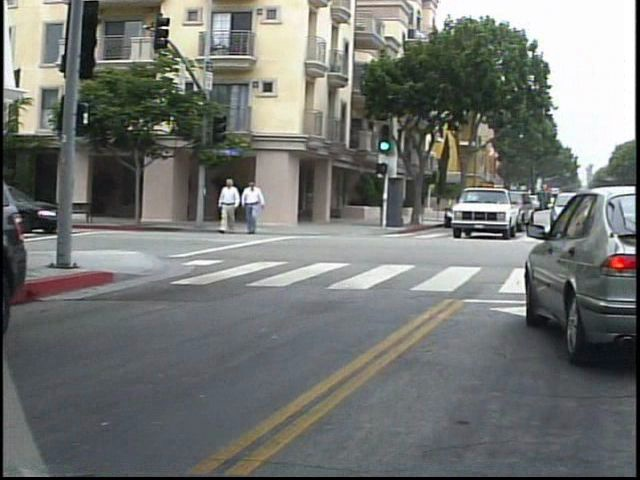person: (248, 175, 275, 239), (222, 176, 247, 240)
